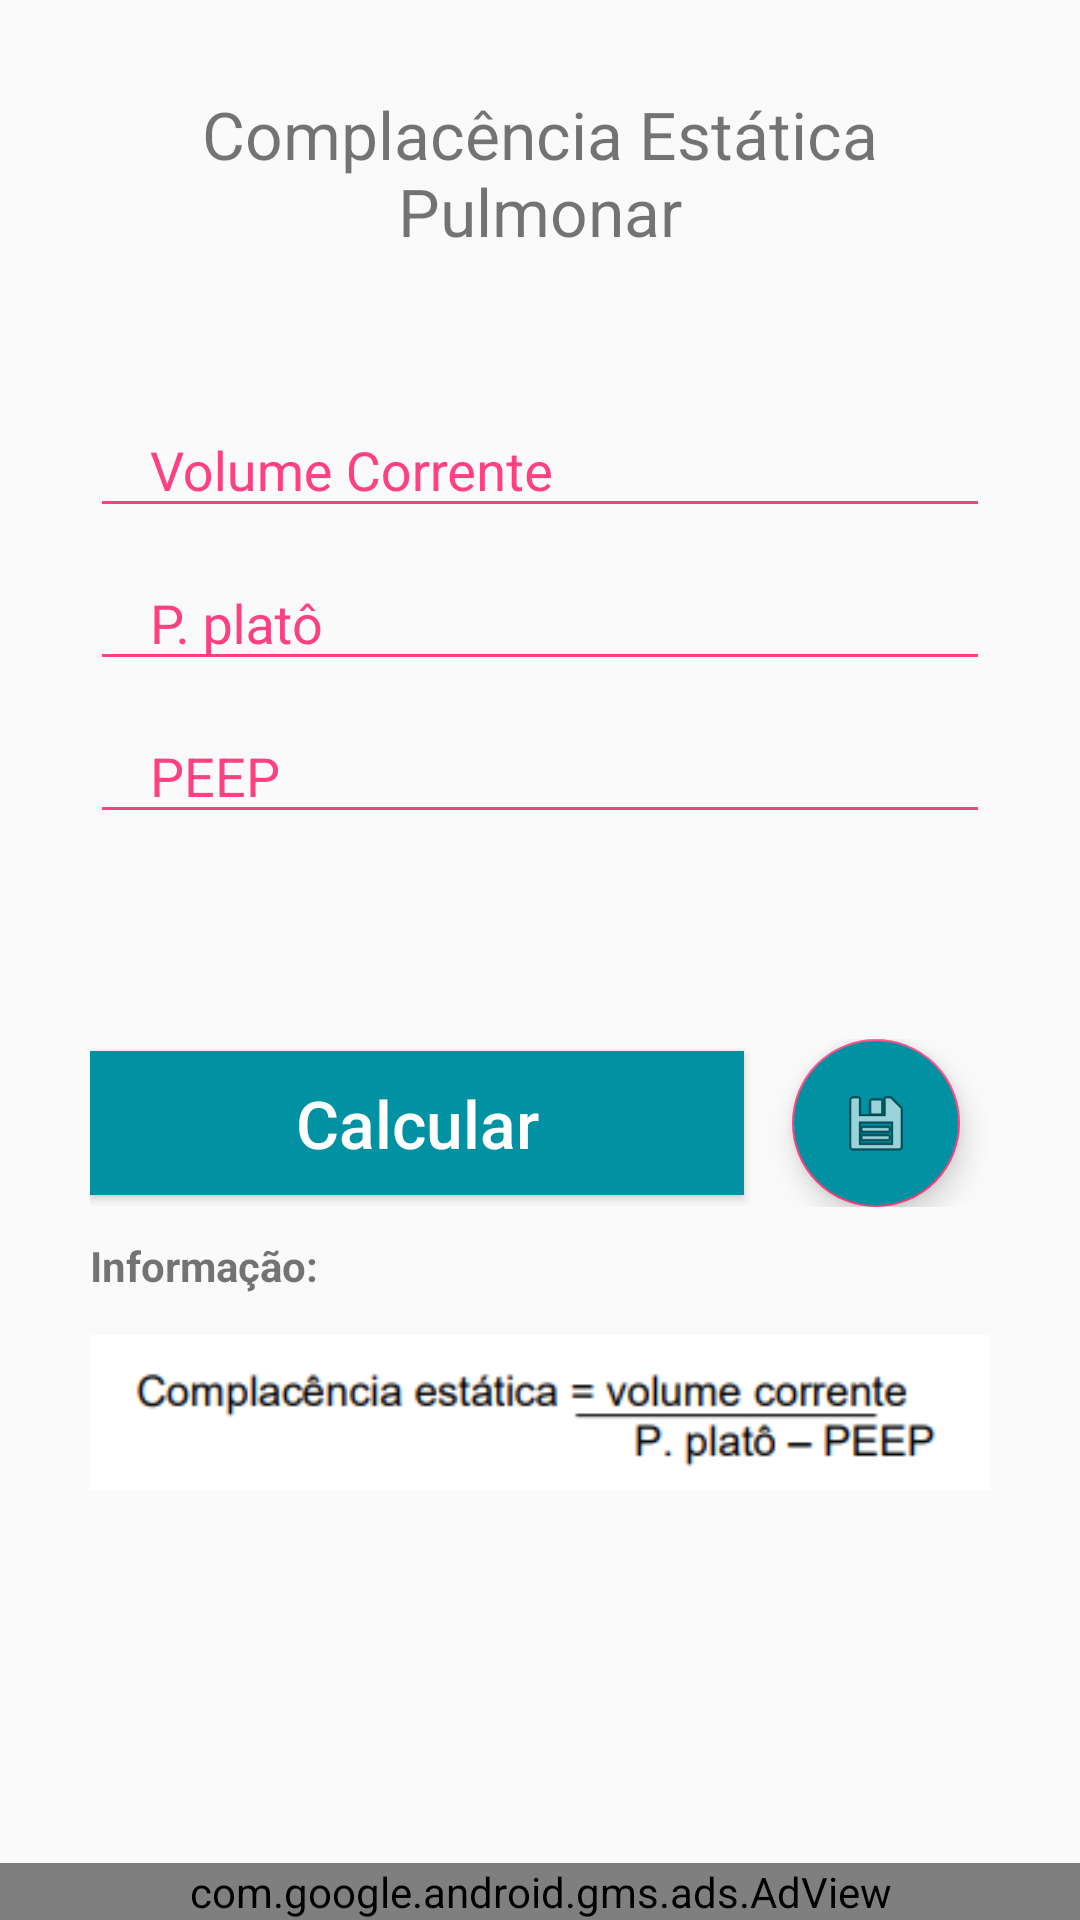

Icons on this 1080×1920 Android screen, each with the point to tap as (x,y):
save: (876,1123)
